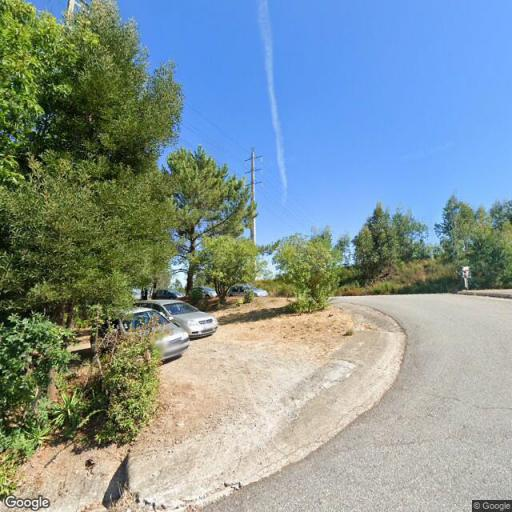mono_9: (244, 145, 262, 284)
